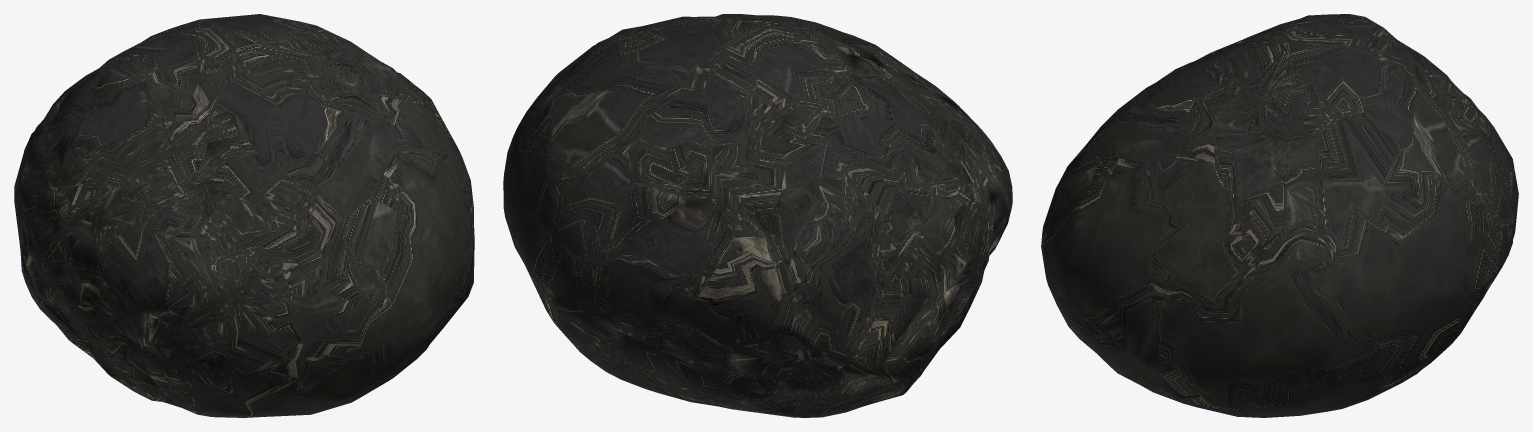
Rendered from boulder.glb.
3 renders of one model, left to right at view 1: azimuth 30°, elevation 25°; view 2: azimuth 150°, elevation 25°; view 3: azimuth 270°, elevation 25°, orthographic. The views are drawn at different scales.
Size of the model in its own units: 1.89 by 1.49 by 1.9.
1 material, 1 textured.
